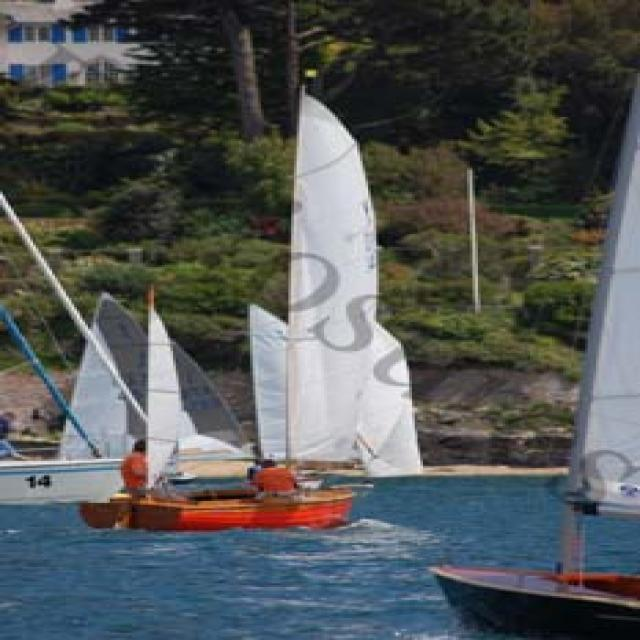Ship: (61, 90, 424, 539), (458, 54, 640, 631)
